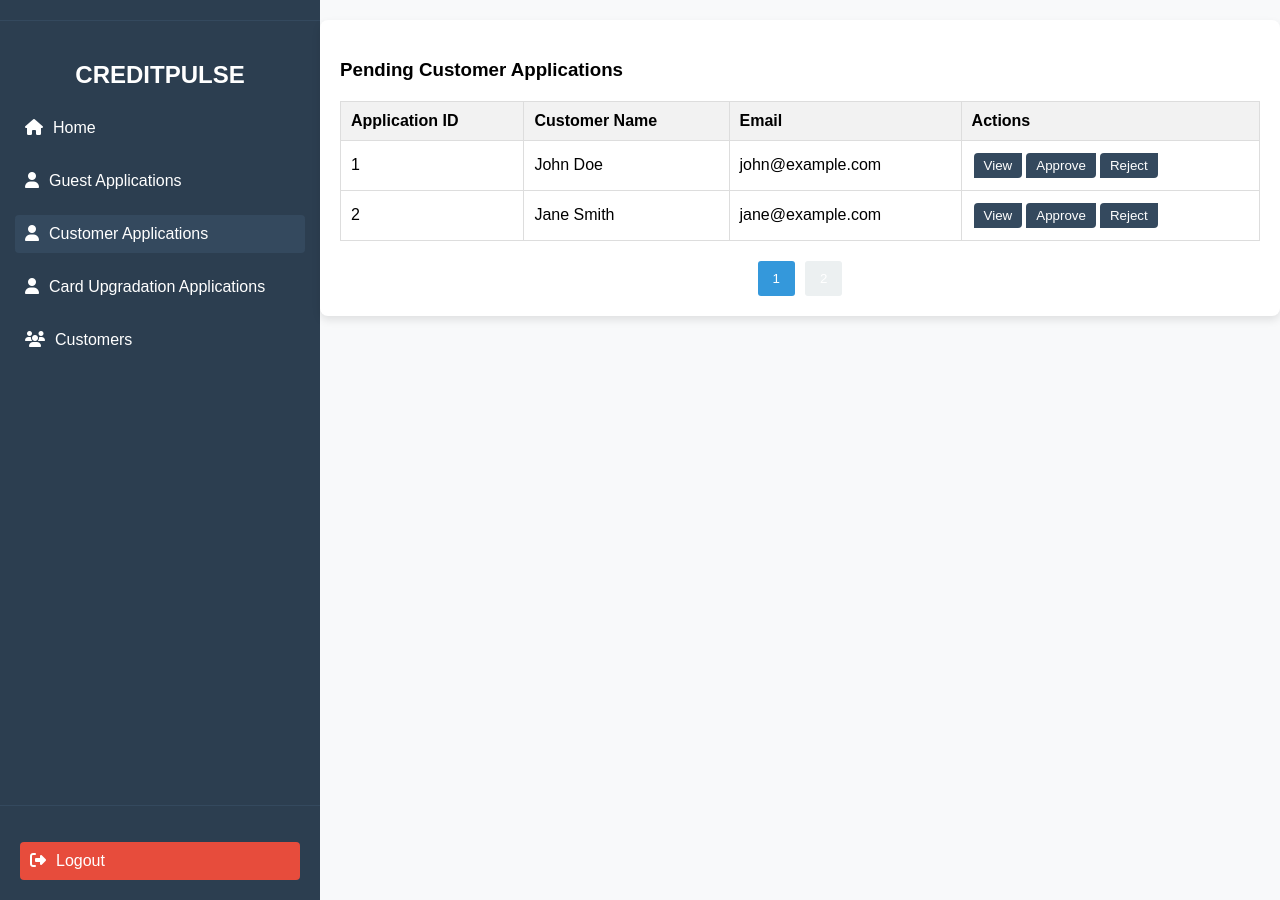
Scenario: CustomerApplication Component › reject modal opens and confirms action
The width and height of the screenshot is (1280, 900).
Click the button "Reject" in the row of "John Doe". click: (1129, 165)
box: [1100,153,1158,178]
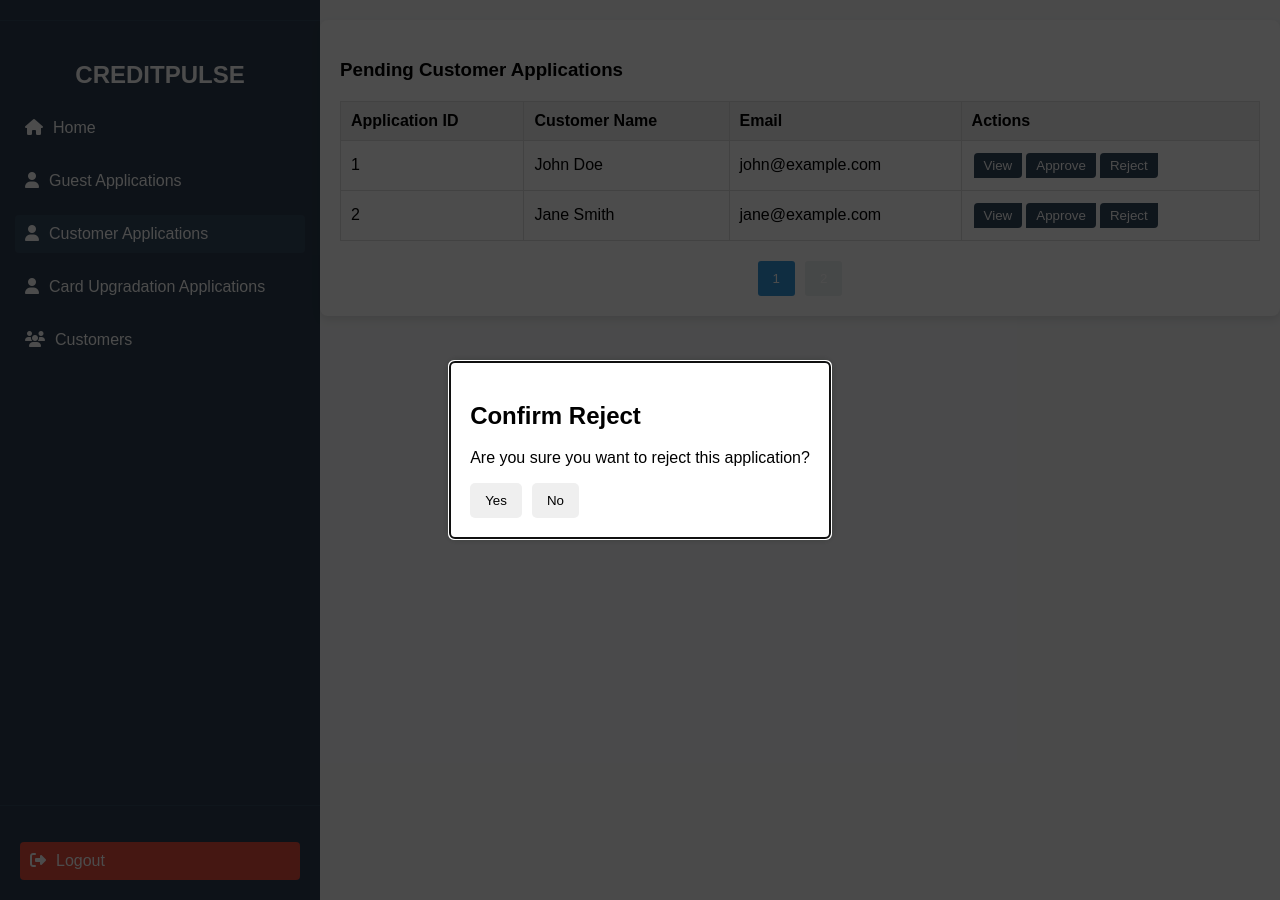
Check: the heading "Confirm Reject" is shown, box [470,402,641,428]
Click the button "Yes". click: (496, 501)
box: [470,483,522,518]
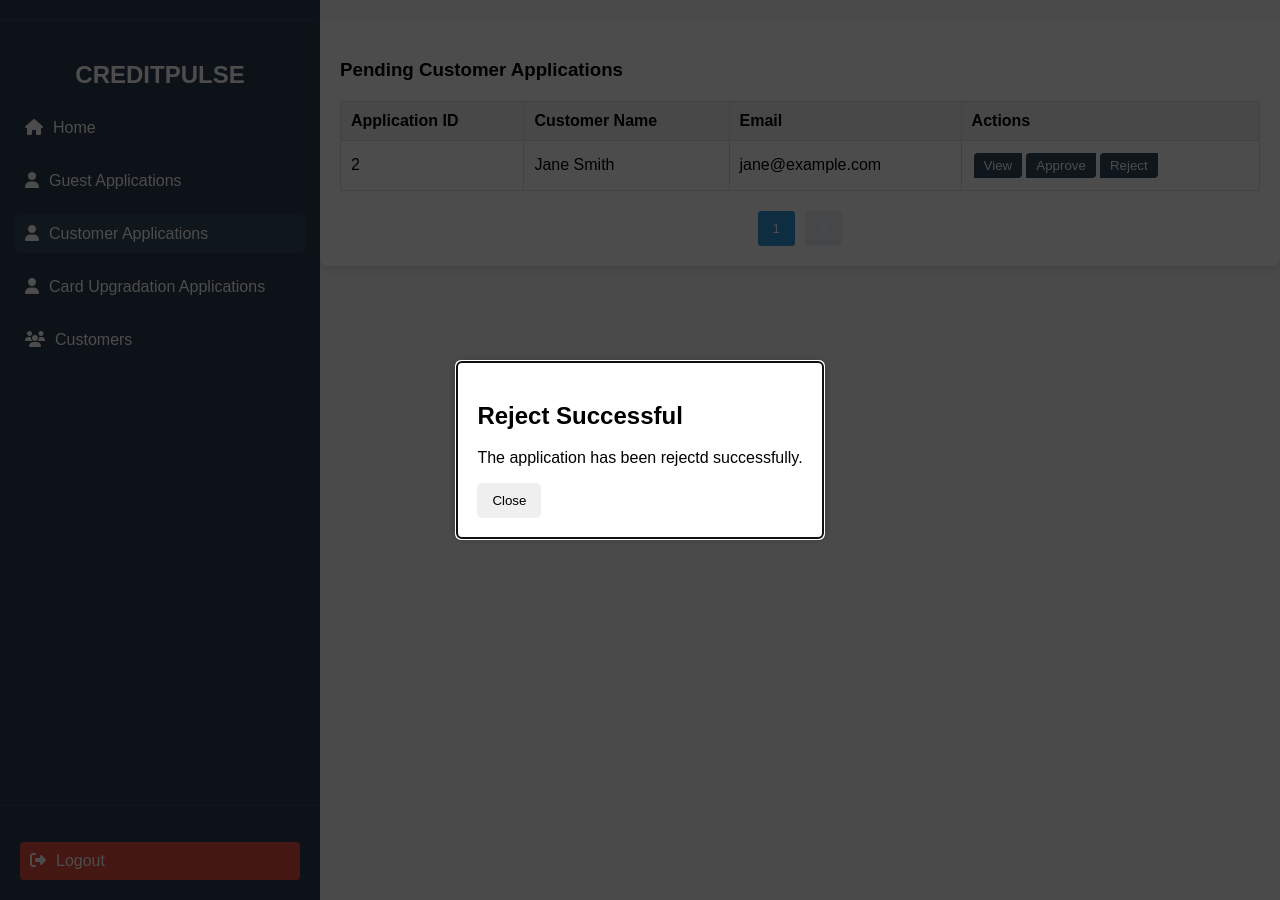
Check: the heading "Reject Successful" is shown, box [477,402,683,428]
